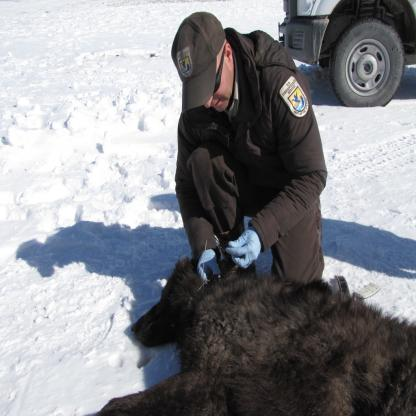Car: (278, 1, 416, 108)
